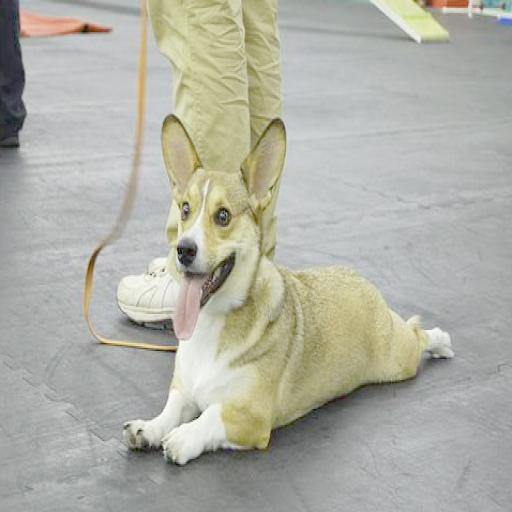dog_face: (160, 109, 291, 310)
